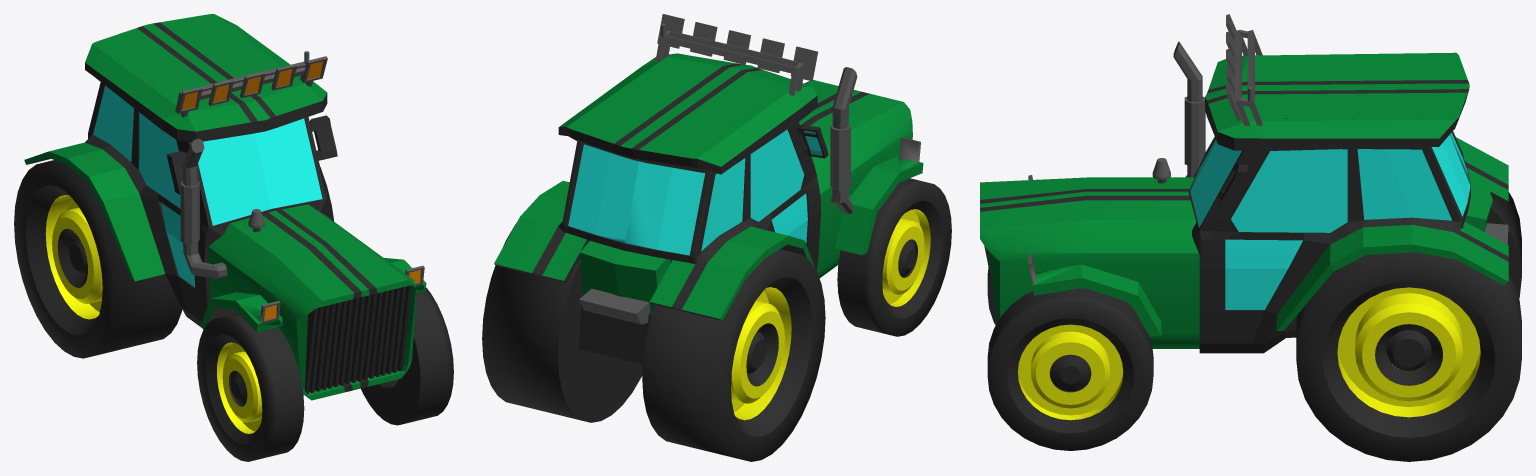
File: trator.glb
The picture shows the model from 3 angles, left to right: view 1: azimuth 30°, elevation 25°; view 2: azimuth 150°, elevation 25°; view 3: azimuth 270°, elevation 25°; orthographic projection. The views are drawn at different scales.
Visible parts, largest first — view 1: Цилиндр.002, Куб.001, Куб, Куб.026, Куб.009, Куб.023, Куб.021, Цилиндр.012, Куб.025, Куб.033, Куб.041; view 2: Цилиндр.002, Куб.001, Куб.009, Куб, Куб.025, Цилиндр.012, Куб.041, Куб.033, Куб.003; view 3: Цилиндр.002, Куб.001, Куб, Куб.009, Куб.025, Цилиндр.012, Куб.021, Куб.041, Куб.033.
Part boxes in pixels (x1,y1,x2,y2): Цилиндр.002: (14,160,453,461); Куб.001: (24,14,337,326); Куб: (207,204,416,400); Куб.026: (305,285,412,394); Куб.009: (93,85,195,287); Куб.023: (198,133,271,225); Куб.021: (255,118,322,208); Цилиндр.012: (180,138,264,279); Куб.025: (200,258,426,332); Куб.033: (177,56,327,113); Куб.041: (175,51,312,117); Цилиндр.002: (482,178,951,461); Куб.001: (494,53,828,367); Куб.009: (568,129,807,255); Куб: (799,80,912,278); Куб.025: (835,137,923,254); Цилиндр.012: (830,67,857,214); Куб.041: (655,23,805,96); Куб.033: (657,14,817,81); Куб.003: (579,288,650,324); Цилиндр.002: (987,192,1521,461); Куб.001: (1188,52,1508,353); Куб: (980,177,1199,348); Куб.009: (1225,132,1470,309); Куб.025: (1028,175,1161,336); Цилиндр.012: (1152,41,1205,183); Куб.021: (1190,142,1241,227); Куб.041: (1234,30,1262,125); Куб.033: (1226,14,1240,120).
Bounding box in the file's own units: 3.08 × 4.12 × 5.82.
